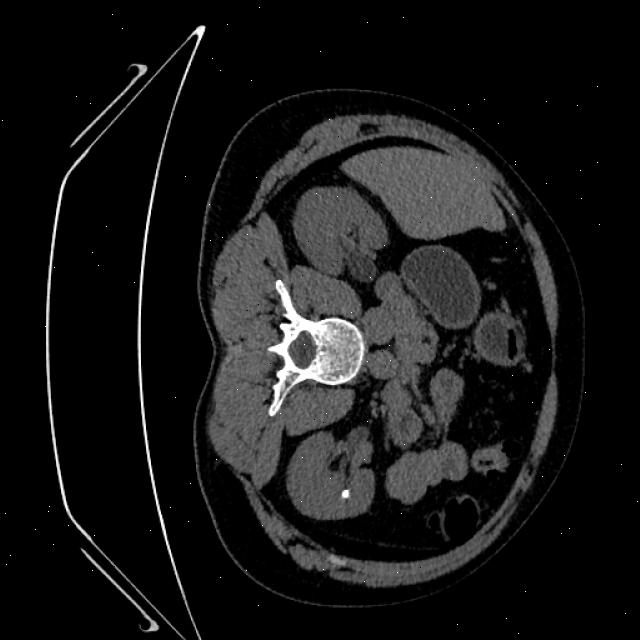kidneystone: (341, 491, 349, 499)
